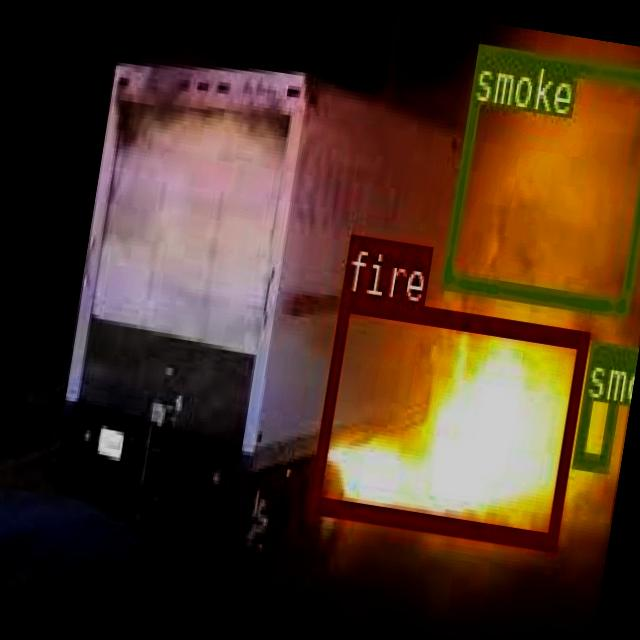fire: (306, 292, 588, 546)
smoke: (439, 41, 640, 315), (571, 338, 626, 469)
